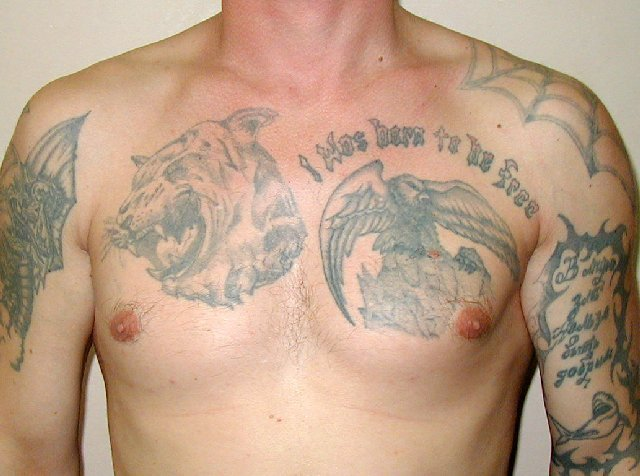tatu3_bukva: (297, 117, 545, 221), (550, 252, 617, 394)
tatu5_tigr: (100, 102, 311, 305)
